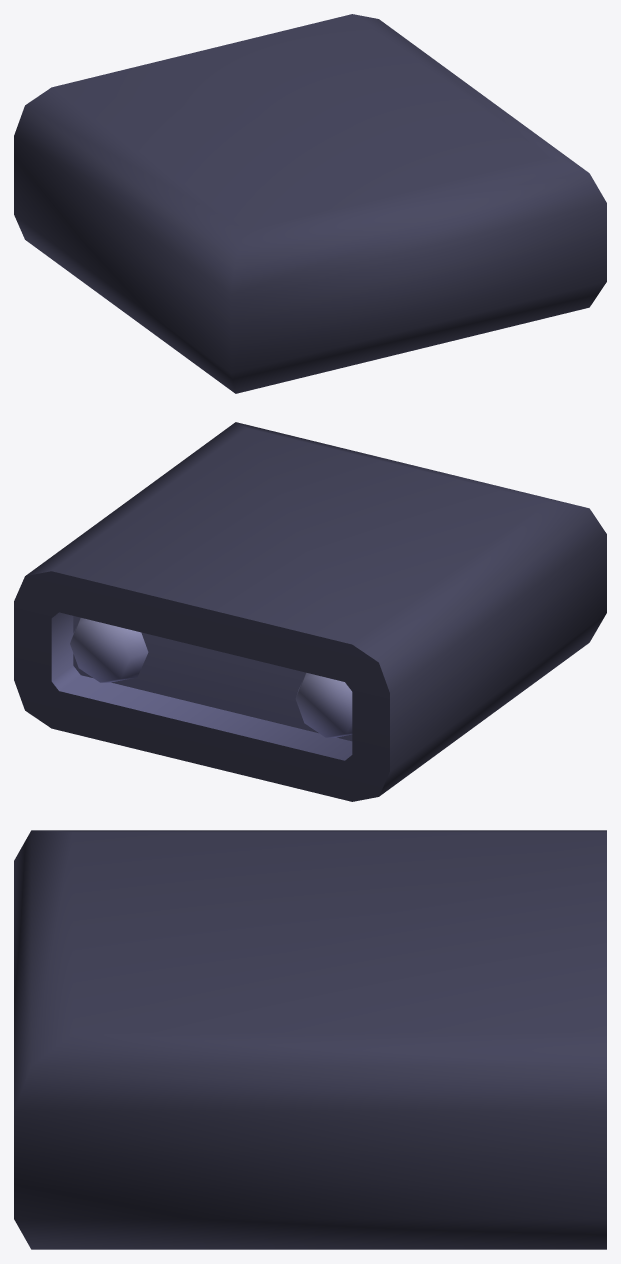
File: kenney-factory-conveyor-junction-t.glb
The picture shows the model from 3 angles, top to bottom: view 1: azimuth 30°, elevation 25°; view 2: azimuth 150°, elevation 25°; view 3: azimuth 270°, elevation 25°; orthographic projection. The views are drawn at different scales.
Visible parts, largest first — view 1: conveyor-junction-t; view 2: conveyor-junction-t; view 3: conveyor-junction-t.
Part boxes in pixels (x1,y1,x2,y2): conveyor-junction-t: (14,14,606,393); conveyor-junction-t: (14,422,606,801); conveyor-junction-t: (14,830,606,1249).
Bounding box in the file's own units: 1.5 × 0.6 × 1.5.
1 material, 1 textured.
